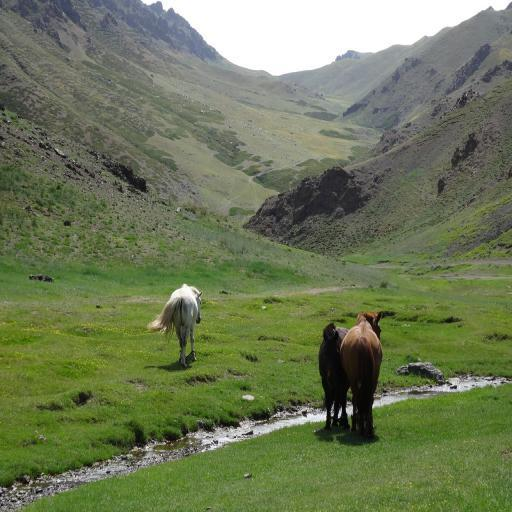horse: (340, 310, 384, 436), (146, 282, 203, 367), (317, 322, 350, 432)
